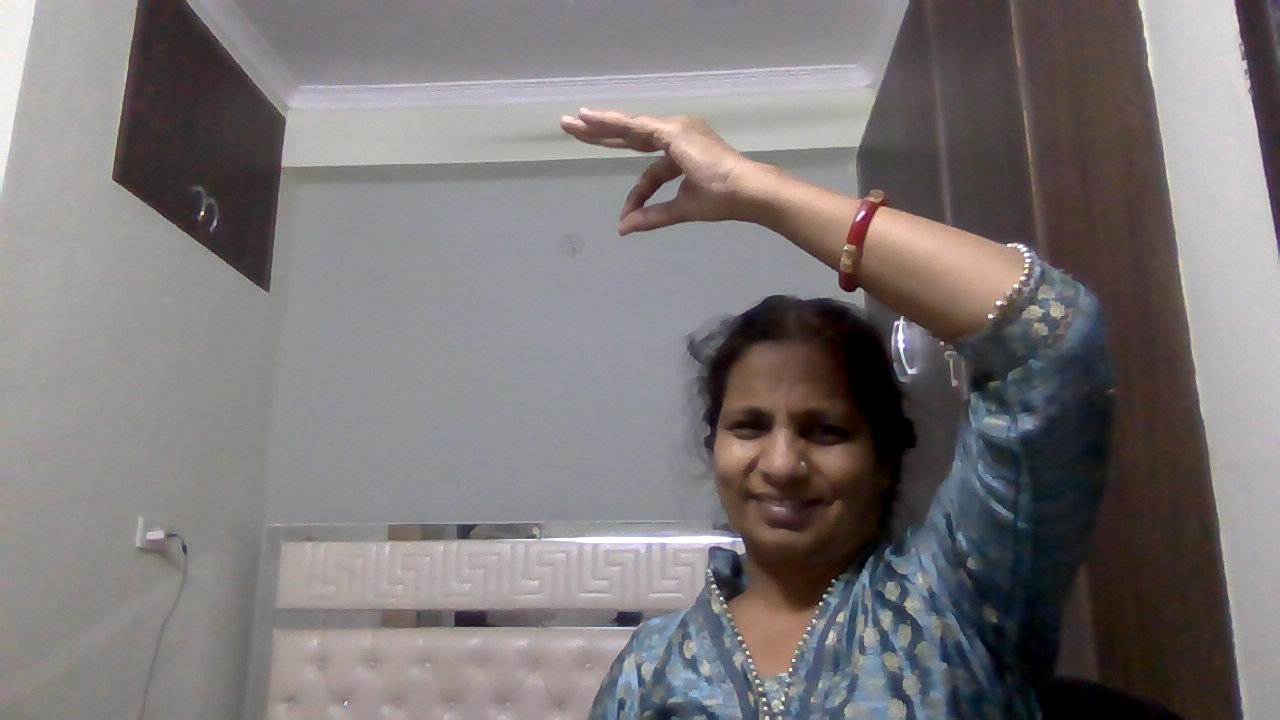Copy: (550, 97, 771, 262)
